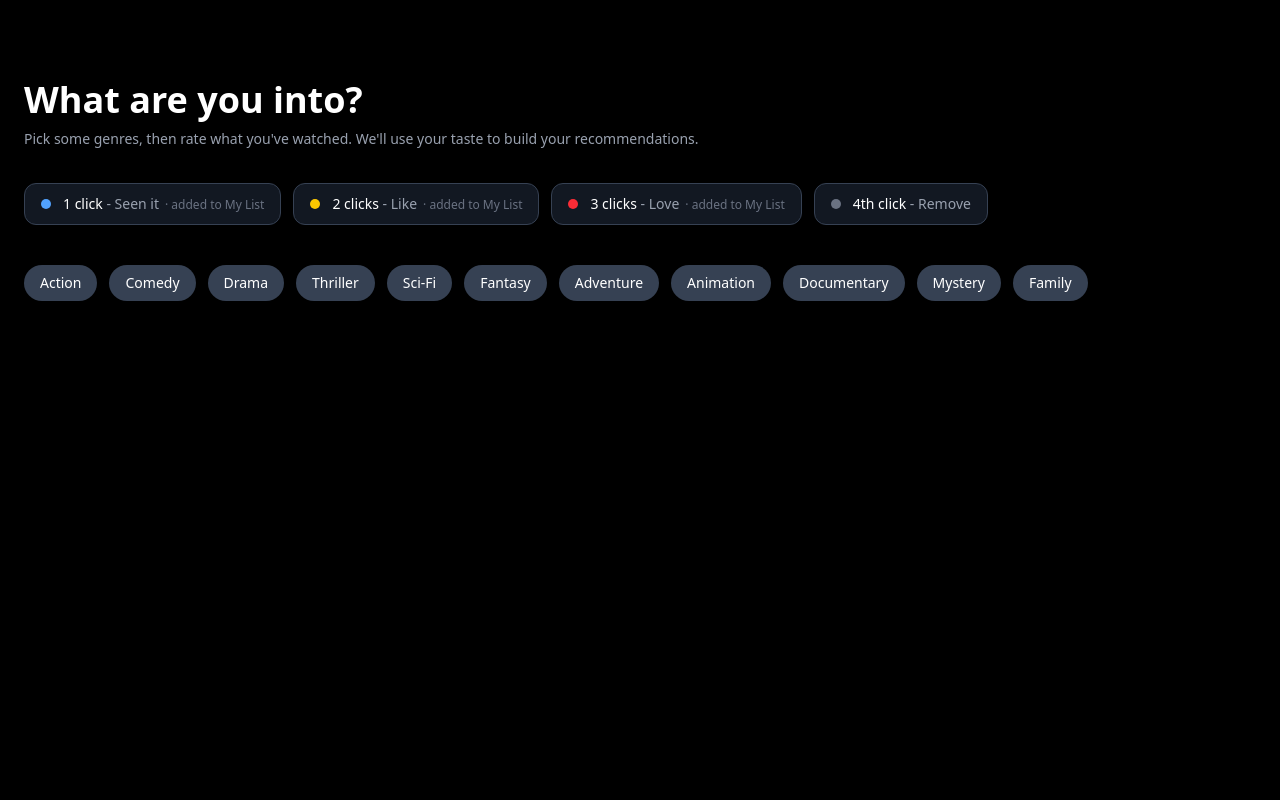
OnboardingPage › renders genres and conditionally shows Finish Setup
Check: the heading "What are you into?" is shown, box [24,75,363,124]
Check: the button "finish setup" is not shown
Note: trigger condition
Click the button "Action". click: (61, 283)
box: [24,265,98,301]
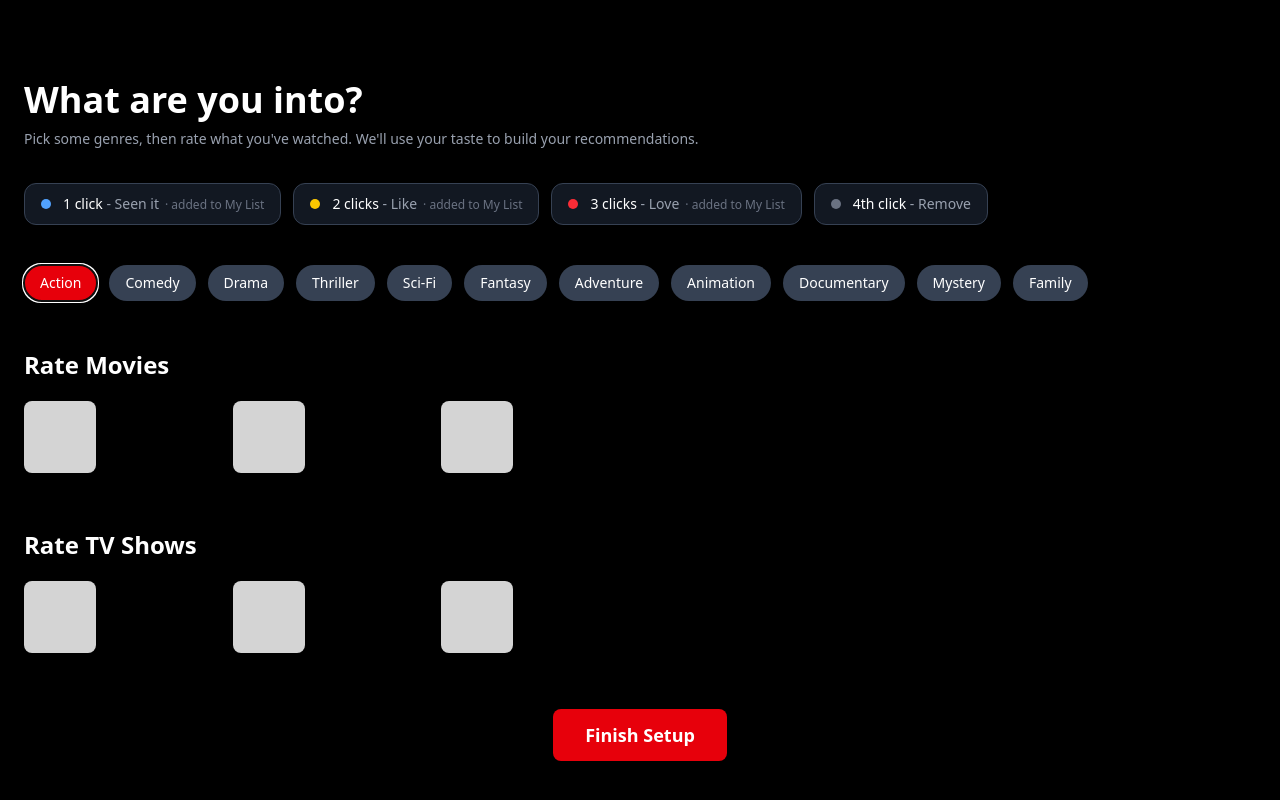
Check: the button "Finish Setup" is shown, box [553,709,727,761]
